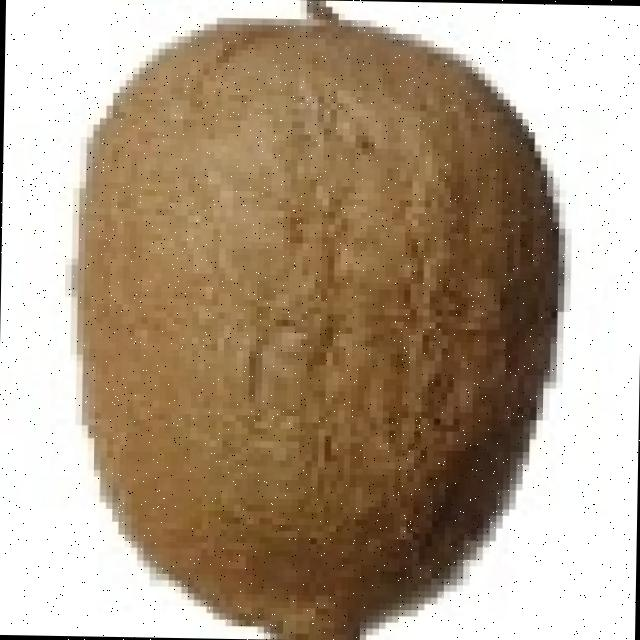kiwi: (70, 13, 546, 628)
